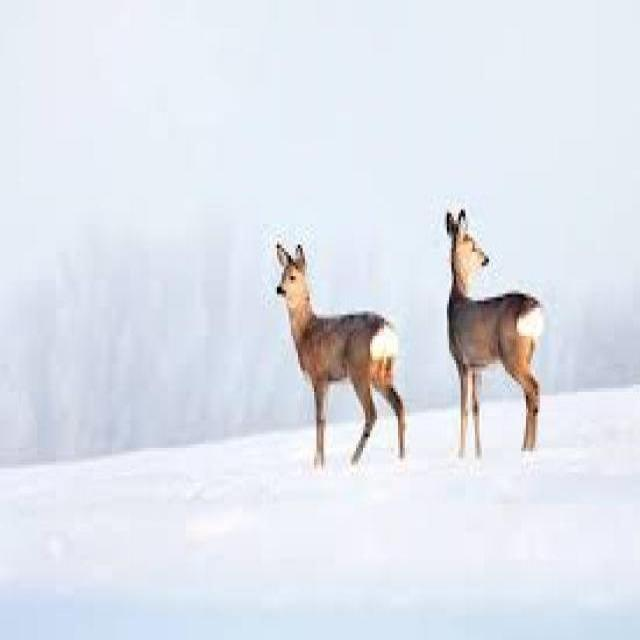deer: (270, 235, 414, 476), (436, 200, 551, 469)
